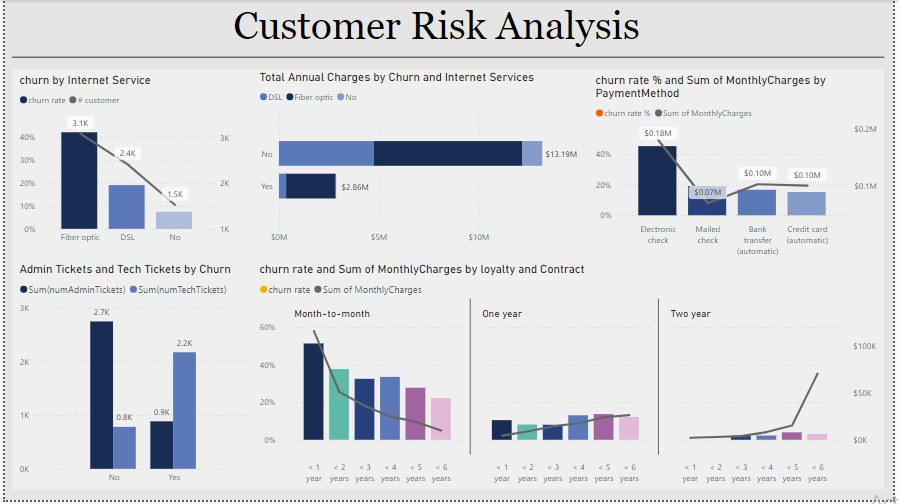

Layout of this report page (visuals, bound fields, positions):
{"tool":"powerbi","page":{"name":"Customer Risk Analysis Dashboard","canvas":[1280,720],"ordinal":1},"visuals":[{"type":"textbox","box":[15.8,0,1211,79.2],"z":0},{"type":"shape","box":[10.1,66.9,1256.1,32.4],"z":1000},{"type":"shape","box":[10.1,99.3,1256.1,605.8],"z":2000},{"type":"lineClusteredColumnComboChart","title":"churn by Internet Service","fields":{"Category":["01 Churn-Dataset.InternetService"],"Y":["01 Churn-Dataset.churn rate %"],"Y2":["CountNonNull(01 Churn-Dataset.customerID)"]},"box":[15.5,104.9,312.6,254.4],"z":3000},{"type":"clusteredColumnChart","title":"Admin Tickets and Tech Tickets by Churn","fields":{"Y":["Sum(01 Churn-Dataset.numAdminTickets)","Sum(01 Churn-Dataset.numTechTickets)"],"Category":["01 Churn-Dataset.Churn"]},"box":[15.5,376.7,345.6,328.2],"z":4000},{"type":"barChart","title":"Total Annual Charges by Churn and Internet Services","fields":{"Category":["01 Churn-Dataset.Churn"],"Y":["Sum(01 Churn-Dataset.TotalCharges)"],"Series":["01 Churn-Dataset.InternetService"]},"box":[361.2,101,483.5,258.3],"z":5000},{"type":"lineStackedColumnComboChart","fields":{"Category":["01 Churn-Dataset.loyalty"],"Y":["01 Churn-Dataset.churn rate %"],"Y2":["Sum(01 Churn-Dataset.MonthlyCharges)"],"Rows":["01 Churn-Dataset.Contract"]},"box":[361.2,376.7,899,328.2],"z":6000},{"type":"lineStackedColumnComboChart","fields":{"Category":["01 Churn-Dataset.PaymentMethod"],"Y":["01 Churn-Dataset.churn rate %"],"Y2":["Sum(01 Churn-Dataset.MonthlyCharges)"]},"box":[844.7,104.9,415.5,271.8],"z":7000}]}

Visuals, with their boxes in screenshot pixels (x1, y1, x2, y2), scaled from the page's 1280x720 canvas onto the 899x504 screenshot:
textbox: (x1=11, y1=0, x2=862, y2=55)
shape: (x1=7, y1=47, x2=889, y2=70)
shape: (x1=7, y1=70, x2=889, y2=494)
"churn by Internet Service" lineClusteredColumnComboChart: (x1=11, y1=73, x2=230, y2=252)
"Admin Tickets and Tech Tickets by Churn" clusteredColumnChart: (x1=11, y1=264, x2=254, y2=493)
"Total Annual Charges by Churn and Internet Services" barChart: (x1=254, y1=71, x2=593, y2=252)
lineStackedColumnComboChart - 01 Churn-Dataset.loyalty x 01 Churn-Dataset.churn rate %: (x1=254, y1=264, x2=885, y2=493)
lineStackedColumnComboChart - 01 Churn-Dataset.PaymentMethod x 01 Churn-Dataset.churn rate %: (x1=593, y1=73, x2=885, y2=264)
